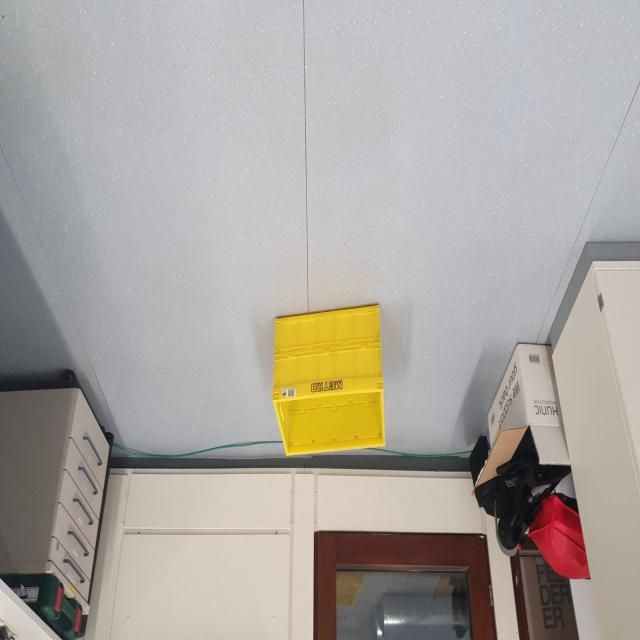box: (268, 296, 389, 462)
